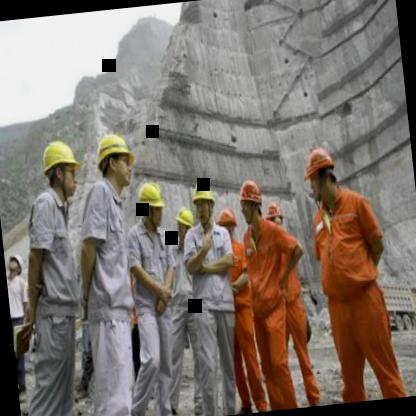helmet: (90, 126, 140, 198), (36, 133, 84, 203), (300, 140, 342, 206), (234, 174, 266, 229), (190, 175, 222, 226), (136, 178, 167, 230), (170, 204, 198, 245), (214, 204, 238, 246), (262, 199, 286, 240), (5, 248, 26, 279)
